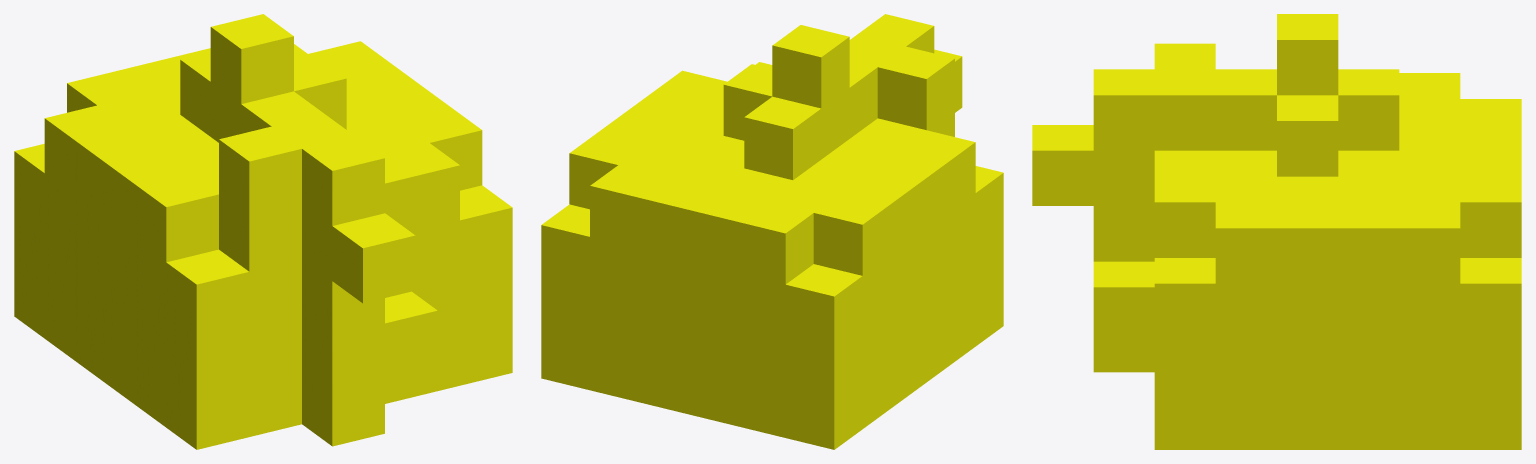
The model's file is voxel-farm-pumpkin.glb.
The picture shows the model from 3 angles, left to right: view 1: azimuth 30°, elevation 25°; view 2: azimuth 150°, elevation 25°; view 3: azimuth 270°, elevation 25°; orthographic projection. The views are drawn at different scales.
Visible parts, largest first — view 1: VS_Farm_Pumpkin; view 2: VS_Farm_Pumpkin; view 3: VS_Farm_Pumpkin.
Boxes of the visible parts, left/top/right/bottom form: VS_Farm_Pumpkin: left=14, top=14, right=512, bottom=449; VS_Farm_Pumpkin: left=541, top=14, right=1003, bottom=449; VS_Farm_Pumpkin: left=1032, top=14, right=1521, bottom=449.
Size of the model in its own units: 0.6 by 0.6 by 0.8.
